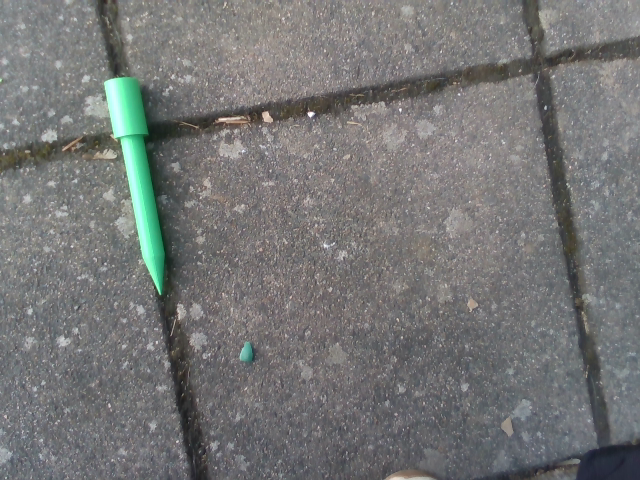Probe: (95, 69, 173, 305)
